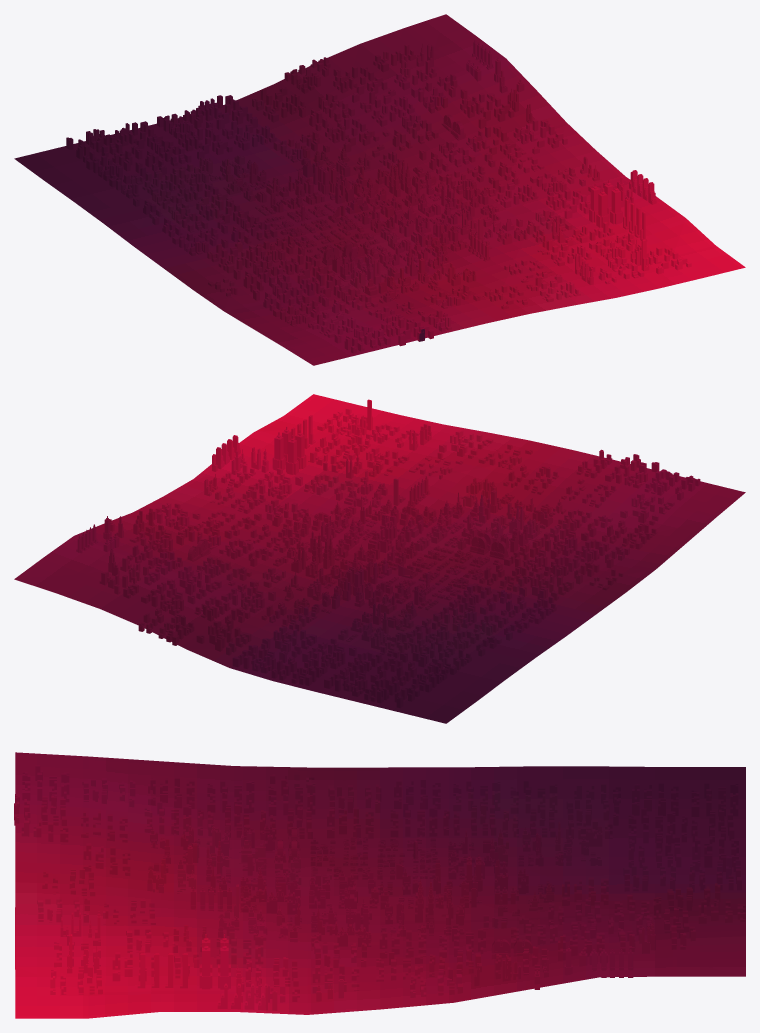
The model's file is skyline.glb.
3 views of the same model, one above another, from view 1: azimuth 30°, elevation 25°; view 2: azimuth 150°, elevation 25°; view 3: azimuth 270°, elevation 25° (orthographic). The views are drawn at different scales.
Visible parts, largest first — view 1: skfb_offset; view 2: skfb_offset; view 3: skfb_offset.
Boxes of the visible parts, <box> form: skfb_offset: <box>14,14,745,365</box>; skfb_offset: <box>14,394,745,723</box>; skfb_offset: <box>14,752,745,1018</box>.
Bounding box in the file's own units: 350484 × 49873 × 420689.
1 material, 1 textured.
